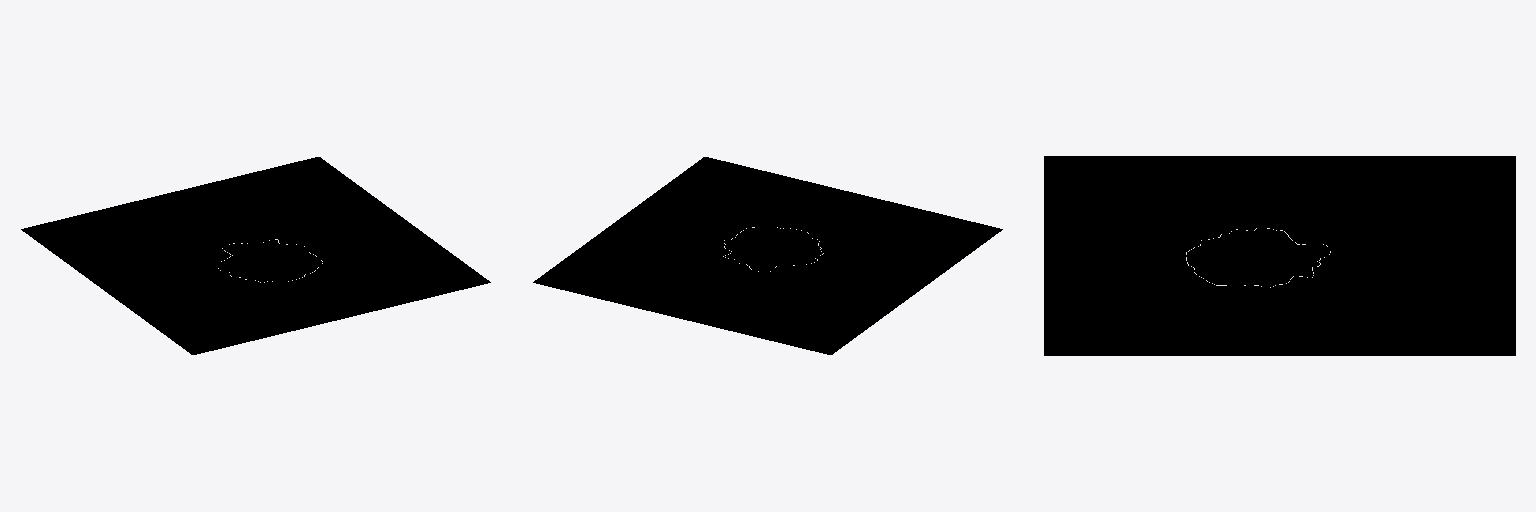
URDF robot description (world):
<robot name="world">
 
	<link name="plane">

   		<inertial>
		    <origin rpy="0 0 0" xyz="0 0 0" />
            <mass value="0.0" />
            <inertia ixx="0.0" ixy="0.0" ixz="0.0" iyy="0.0" iyz="0.0" izz="0.0" />
        </inertial>

    	<visual>
      		<geometry>
        		<box size="10.0 10.0 0.001" />
      		</geometry>

			<material name="plane_color">
        		<color rgba="0 0 0 1" />
      		</material>
       	
			<origin rpy="0 0 0" xyz="0 0 0" />
		</visual>

		<contact>
		 	<lateral_friction value="1" />
			<stiffness value="300000" />
          	<damping value="1000" />
  		</contact>

  		<collision>
			<geometry>
        		<box size="10.0 10.0 0.01" />
      		</geometry>
          <origin rpy="0 0 0" xyz="0 0 0" />
        </collision>
  
	</link>


	<link name="line">

   		<inertial>
		    <origin rpy="0 0 0" xyz="0 0 0" />
            <mass value="0.0" />
            <inertia ixx="0.0" ixy="0.0" ixz="0.0" iyy="0.0" iyz="0.0" izz="0.0" />
        </inertial>

    	<visual>
      		<geometry>
				<mesh filename="./models_tracks/18.obj" scale="1 1 1" />
      		</geometry>
       		
			<material name="line_color">
        		<color rgba="1 1 1 1" />
      		</material>
	    
			<origin rpy="0 0 0" xyz="0 0 0.001" />
		</visual>
    
	</link>


  	<joint name="plane_line" type="fixed">
		<parent link="plane" />
		<child link="line" />
        <origin rpy="0 0 0" xyz="0.0 0.0 0.0" />
 	</joint>

</robot>

--- What the picture shows (computed from the rendered views, not written in the file) ---
The picture shows the robot from 3 angles, left to right: view 1: azimuth 30°, elevation 25°; view 2: azimuth 150°, elevation 25°; view 3: azimuth 270°, elevation 25°; orthographic projection.
Model world with 2 links and 1 joints (1 fixed), rooted at plane, posed every joint at zero.
Visible links, largest first — view 1: plane; view 2: plane; view 3: plane.
Link boxes in pixels (x1=…): plane: x1=21, y1=157, x2=490, y2=354; plane: x1=533, y1=157, x2=1002, y2=354; plane: x1=1044, y1=156, x2=1515, y2=355.
Bounding box of the posed robot: 10 × 10 × 0.0015 m (x, y, z).
1 mesh visuals loaded from 1 distinct referenced files (1 OBJ).
